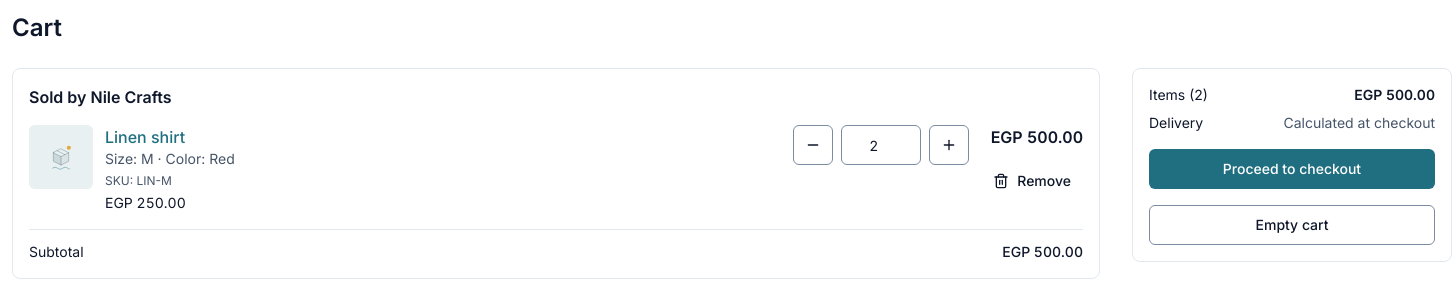
it: cart page (spec 01 SF-06) › remove: deletes the line, then shows the refetched cart
Click the button with aria-label "Remove Linen shirt". click: (1032, 181)
box: [981,165,1083,197]
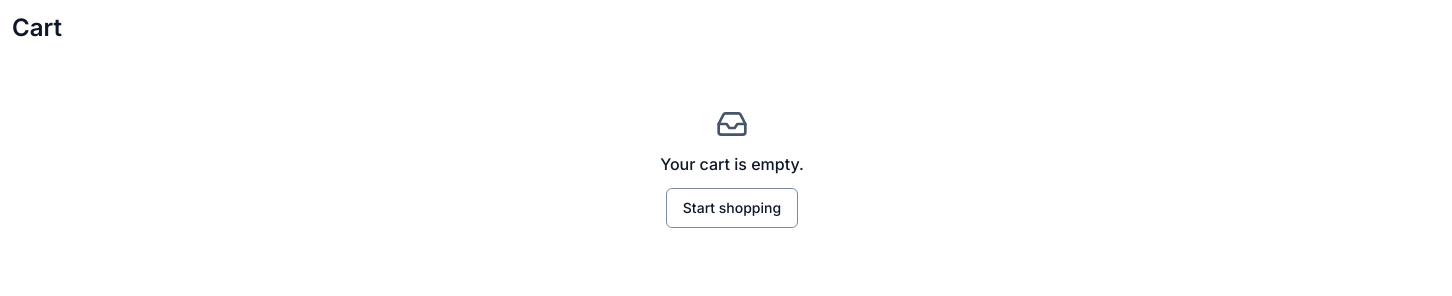
Now the text "Your cart is empty." is shown, box [660,152,804,176]
